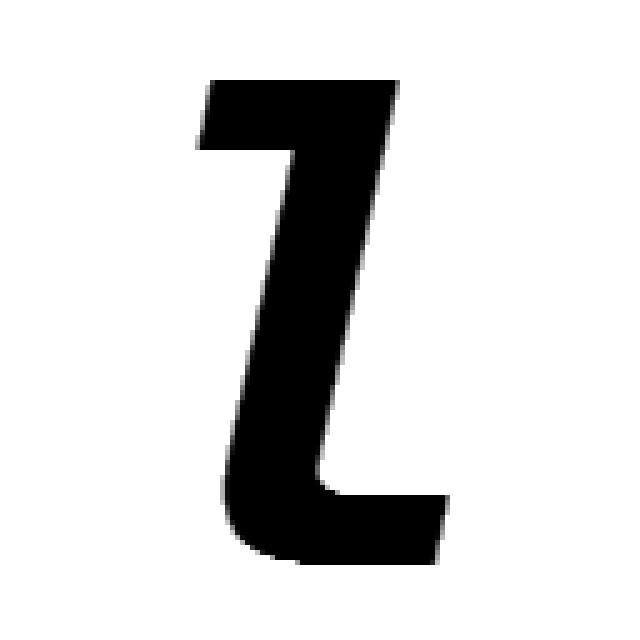L: (198, 70, 466, 570)
